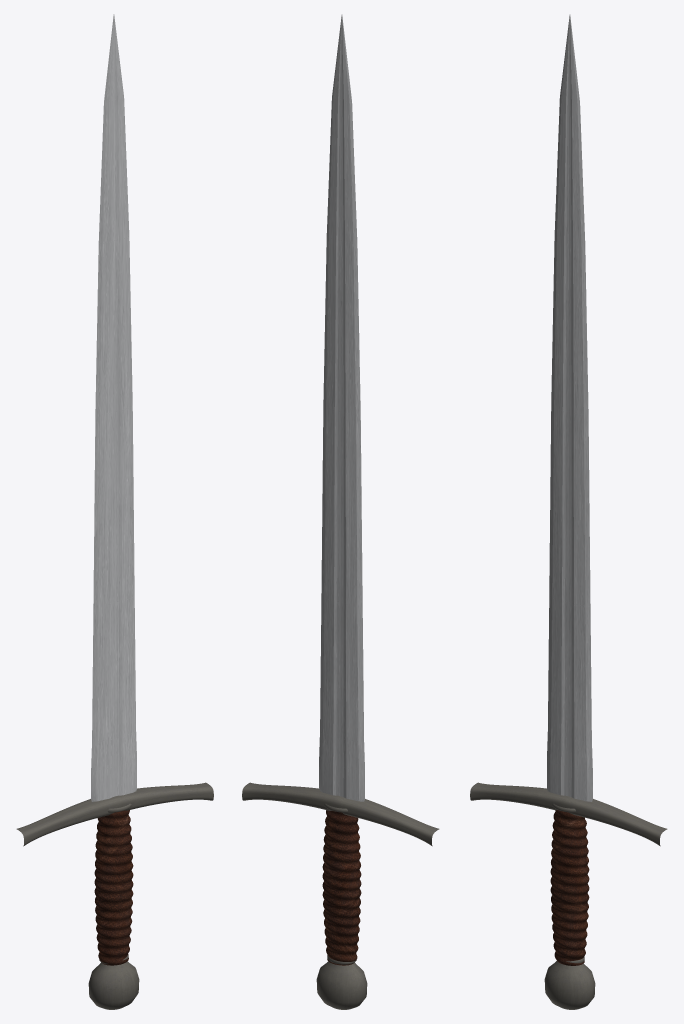
File: schwert.glb
3 views of the same model, side by side, from view 1: azimuth 30°, elevation 25°; view 2: azimuth 150°, elevation 25°; view 3: azimuth 330°, elevation 25° (orthographic).
Visible parts, largest first — view 1: Schwert; view 2: Schwert; view 3: Schwert.
Boxes of the visible parts, x1,y1,x2,y2 form: Schwert: (16,14,213,1009); Schwert: (242,14,439,1009); Schwert: (470,14,667,1009).
Bounding box in the file's own units: 0.198 × 0.989 × 0.038.
1 material, 1 textured.
